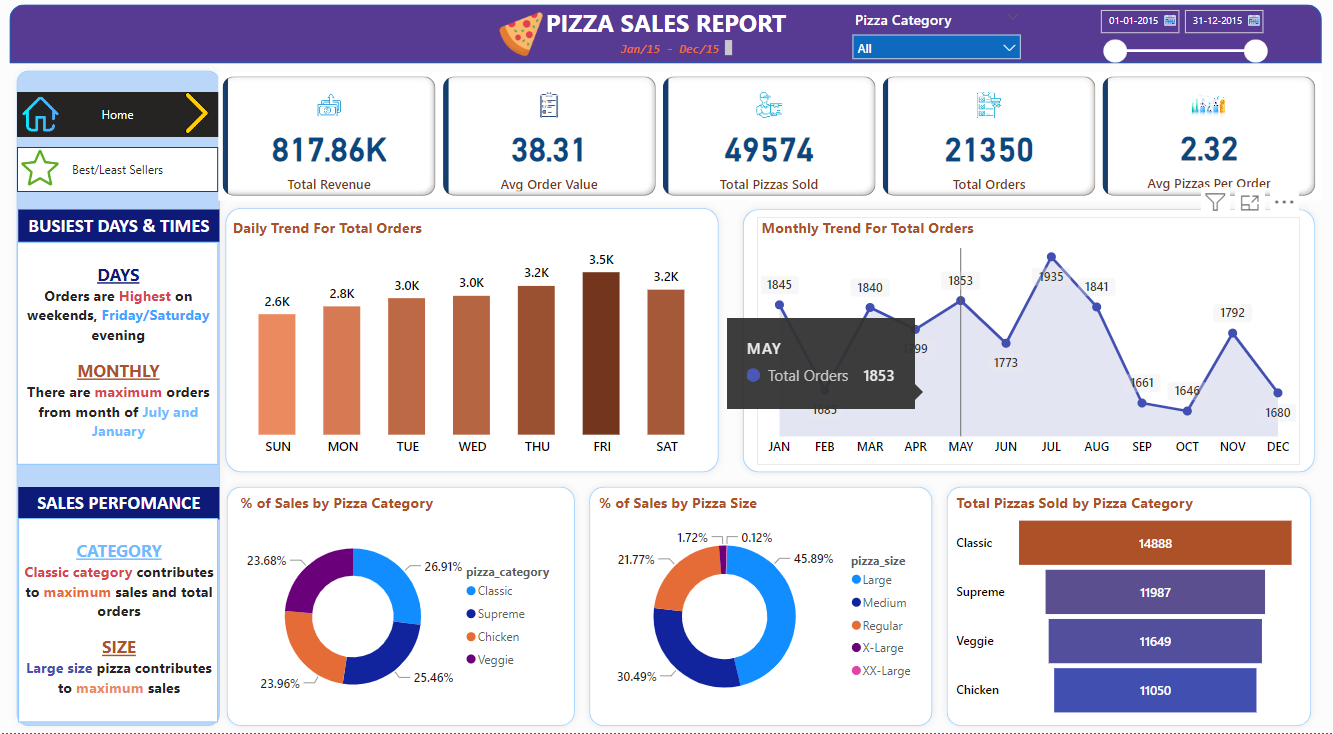

This screenshot's page, from the dashboard's own definition file:
{"tool":"powerbi","page":{"name":"Home","canvas":[1500,820],"ordinal":0},"visuals":[{"type":"shape","box":[19.5,73.8,242.2,746.2],"z":0},{"type":"cardVisual","fields":{"Data":["pizza_sales.Total Revenue","pizza_sales.Avg Order Value","pizza_sales.Total Pizzas Sold","pizza_sales.Total Orders","pizza_sales.Avg Pizzas Per Order"]},"box":[252,83.5,1229.3,143.4],"z":1000},{"type":"shape","box":[20,8.6,1461.4,65.7],"z":2000},{"type":"textbox","box":[607.1,5.7,287.1,50],"z":3000},{"type":"textbox","box":[694.3,42.9,134.3,27.1],"z":4000},{"type":"image","box":[556.9,11.1,64,59.9],"z":5000},{"type":"shape","box":[252,226.9,565.2,310.5],"z":6000},{"type":"clusteredColumnChart","title":"Daily Trend For Total Orders","fields":{"Category":["pizza_sales.Order Day"],"Y":["pizza_sales.Total Orders"]},"box":[263.1,245,544.3,275.7],"z":7000},{"type":"shape","box":[828.4,228.3,652.9,309.1],"z":8000},{"type":"areaChart","title":"Monthly Trend For Total Orders","fields":{"Category":["pizza_sales.Order Month"],"Y":["pizza_sales.Total Orders"]},"box":[852,245,605.6,275.7],"z":9000},{"type":"shape","box":[253.4,537.4,403.7,282.6],"z":10000},{"type":"shape","box":[657.1,537.4,398.2,282.6],"z":11000},{"type":"shape","box":[1055.3,537.4,421.8,282.6],"z":12000},{"type":"donutChart","title":"% of Sales by Pizza Category","fields":{"Category":["pizza_sales.pizza_category"],"Y":["pizza_sales.Total Revenue"]},"box":[271.5,551.3,370.3,256.2],"z":13000},{"type":"donutChart","title":"% of Sales by Pizza Size","fields":{"Category":["pizza_sales.pizza_size"],"Y":["pizza_sales.Total Revenue"]},"box":[671,551.3,370.3,256.2],"z":14000},{"type":"funnel","title":"Total Pizzas Sold by Pizza Category","fields":{"Category":["pizza_sales.pizza_category"],"Y":["pizza_sales.Total Pizzas Sold"]},"box":[1069.2,551.3,388.4,256.2],"z":15000},{"type":"textbox","box":[29.2,236.7,224.1,36.2],"z":16000},{"type":"textbox","box":[27.8,272.9,224.1,247.8],"z":17000},{"type":"textbox","box":[29.2,545.7,224.1,36.2],"z":18000},{"type":"textbox","box":[29.2,580.5,222.8,226.9],"z":19000},{"type":"slicer","fields":{"Values":["pizza_sales.pizza_category"]},"box":[948.1,8.4,207.4,62.6],"z":20000},{"type":"slicer","fields":{"Values":["pizza_sales.order_date"]},"box":[1222.3,4.2,206,69.6],"z":21000},{"type":"pageNavigator","box":[27.8,105.8,224.1,50.1],"z":21001},{"type":"pageNavigator","box":[27.8,167.1,224.1,50.1],"z":21002},{"type":"image","box":[200.5,101.6,55.7,55.7],"z":21003},{"type":"image","box":[29.2,101.6,50.1,57.1],"z":21004},{"type":"image","box":[27.8,162.9,51.5,54.3],"z":21005}]}

Visuals, with their boxes in screenshot pixels (x1, y1, x2, y2), scaled from the page's 1500x820 canvas onto the 1333x734 screenshot:
shape: {"left": 17, "top": 66, "right": 233, "bottom": 733}
cardVisual - pizza_sales.Total Revenue x pizza_sales.Avg Order Value: {"left": 224, "top": 75, "right": 1316, "bottom": 203}
shape: {"left": 18, "top": 8, "right": 1316, "bottom": 67}
textbox: {"left": 540, "top": 5, "right": 795, "bottom": 50}
textbox: {"left": 617, "top": 38, "right": 736, "bottom": 63}
image: {"left": 495, "top": 10, "right": 552, "bottom": 64}
shape: {"left": 224, "top": 203, "right": 726, "bottom": 481}
"Daily Trend For Total Orders" clusteredColumnChart: {"left": 234, "top": 219, "right": 718, "bottom": 466}
shape: {"left": 736, "top": 204, "right": 1316, "bottom": 481}
"Monthly Trend For Total Orders" areaChart: {"left": 757, "top": 219, "right": 1295, "bottom": 466}
shape: {"left": 225, "top": 481, "right": 584, "bottom": 733}
shape: {"left": 584, "top": 481, "right": 938, "bottom": 733}
shape: {"left": 938, "top": 481, "right": 1313, "bottom": 733}
"% of Sales by Pizza Category" donutChart: {"left": 241, "top": 493, "right": 570, "bottom": 723}
"% of Sales by Pizza Size" donutChart: {"left": 596, "top": 493, "right": 925, "bottom": 723}
"Total Pizzas Sold by Pizza Category" funnel: {"left": 950, "top": 493, "right": 1295, "bottom": 723}
textbox: {"left": 26, "top": 212, "right": 225, "bottom": 244}
textbox: {"left": 25, "top": 244, "right": 224, "bottom": 466}
textbox: {"left": 26, "top": 488, "right": 225, "bottom": 521}
textbox: {"left": 26, "top": 520, "right": 224, "bottom": 723}
slicer - pizza_sales.pizza_category: {"left": 843, "top": 8, "right": 1027, "bottom": 64}
slicer - pizza_sales.order_date: {"left": 1086, "top": 4, "right": 1269, "bottom": 66}
pageNavigator: {"left": 25, "top": 95, "right": 224, "bottom": 140}
pageNavigator: {"left": 25, "top": 150, "right": 224, "bottom": 194}
image: {"left": 178, "top": 91, "right": 228, "bottom": 141}
image: {"left": 26, "top": 91, "right": 70, "bottom": 142}
image: {"left": 25, "top": 146, "right": 70, "bottom": 194}
